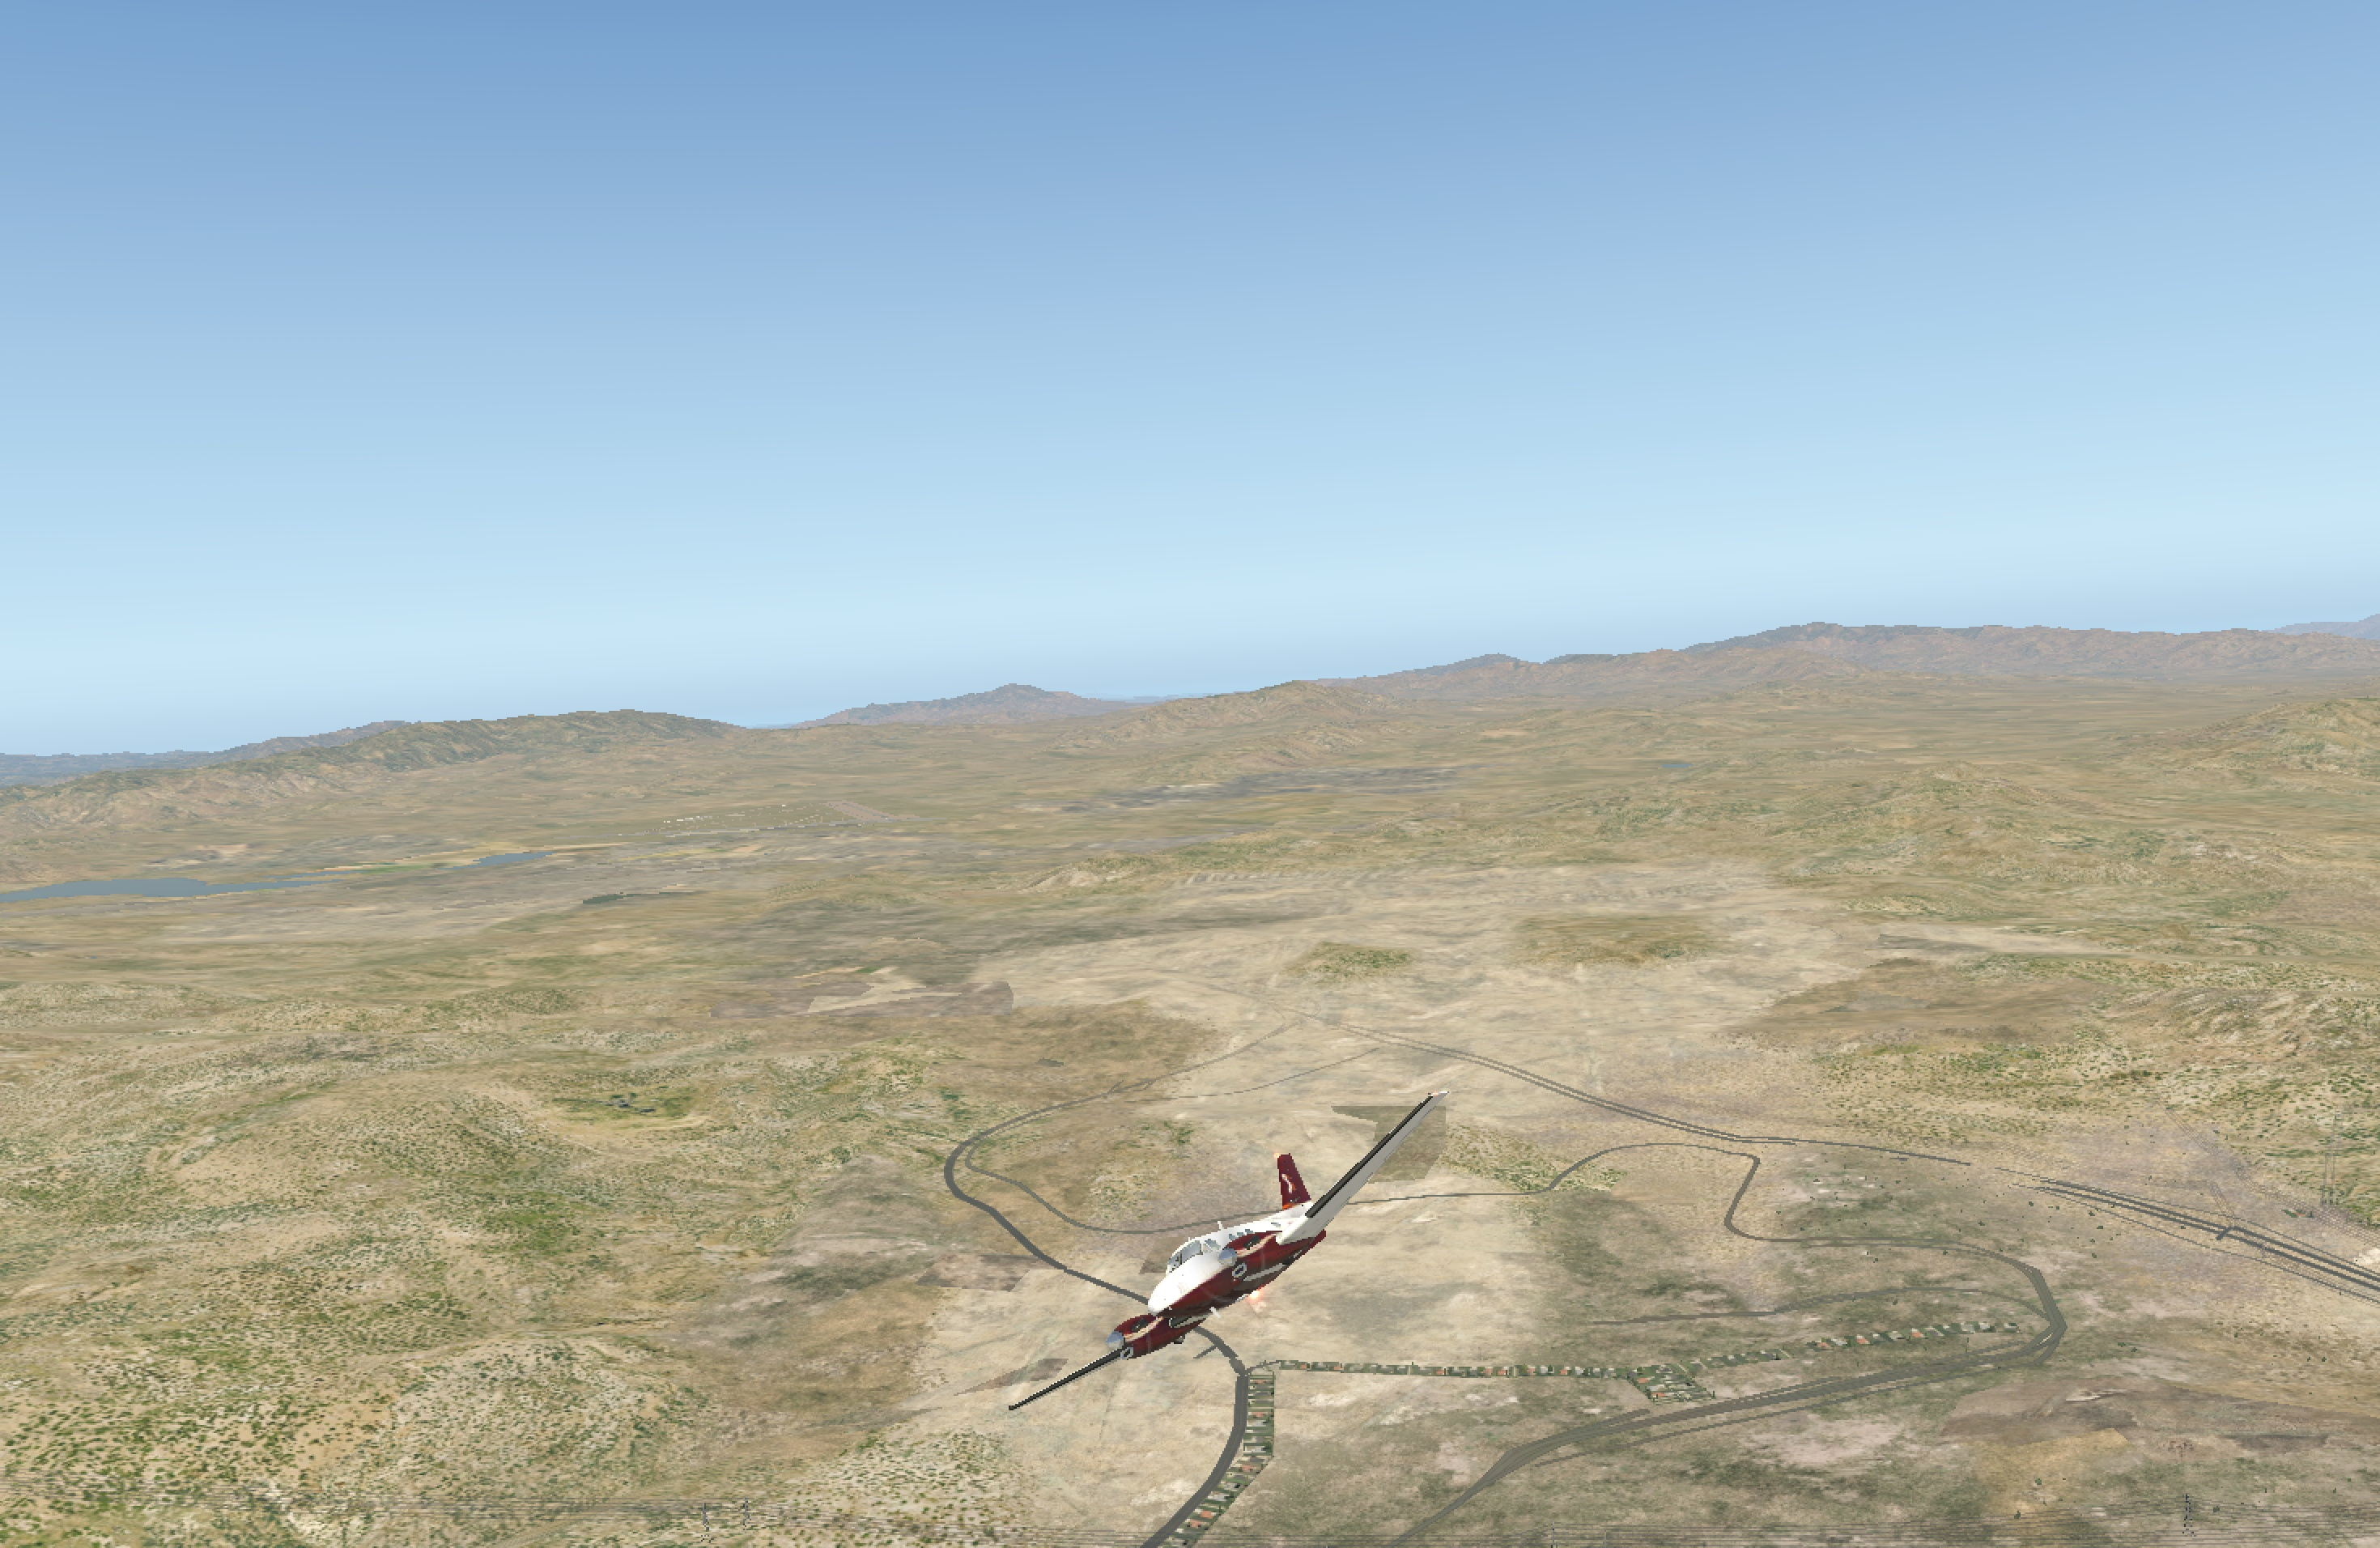aircraft: (930, 1184, 1527, 1407)
